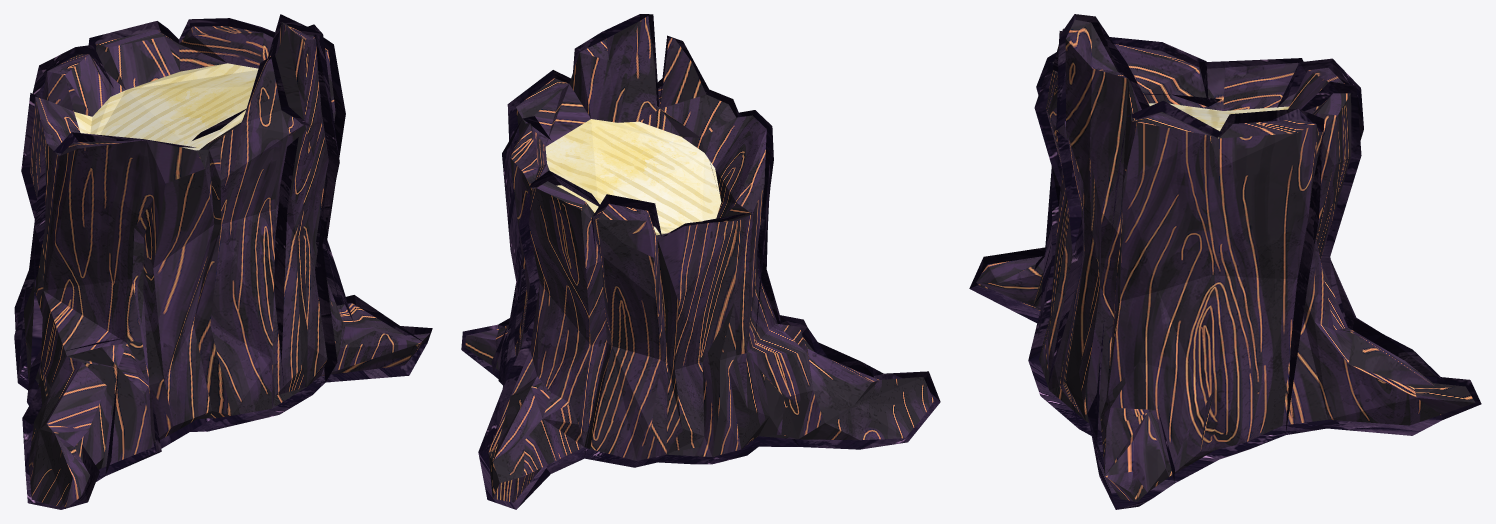
Rendered from polygonalmind-momuspark-061.glb.
3 views of the same model, side by side, from view 1: azimuth 30°, elevation 25°; view 2: azimuth 150°, elevation 25°; view 3: azimuth 270°, elevation 25° (orthographic). The views are drawn at different scales.
Parts seen in each view (by area): view 1: Tree_Trunk_01_Art; view 2: Tree_Trunk_01_Art; view 3: Tree_Trunk_01_Art.
Part boxes in pixels (box(x1,y1,x2,y2)): Tree_Trunk_01_Art: box(14, 14, 432, 509); Tree_Trunk_01_Art: box(461, 14, 940, 509); Tree_Trunk_01_Art: box(969, 14, 1481, 509).
Size of what is drawn, in the model's own units: 3.42 by 3.02 by 3.26.
Materials: 3 (3 with a texture image).
